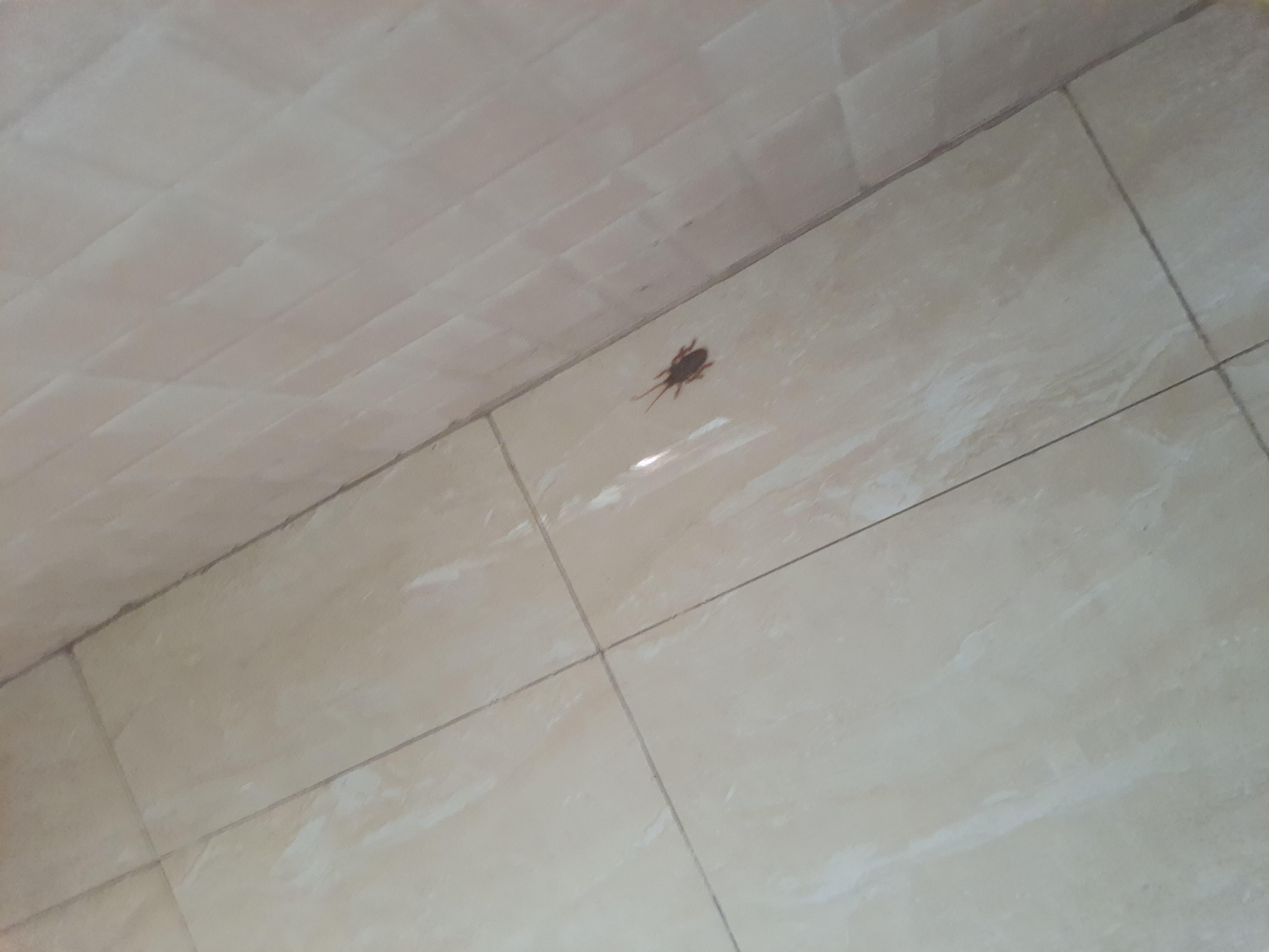cockroach: (729, 489, 825, 537)
